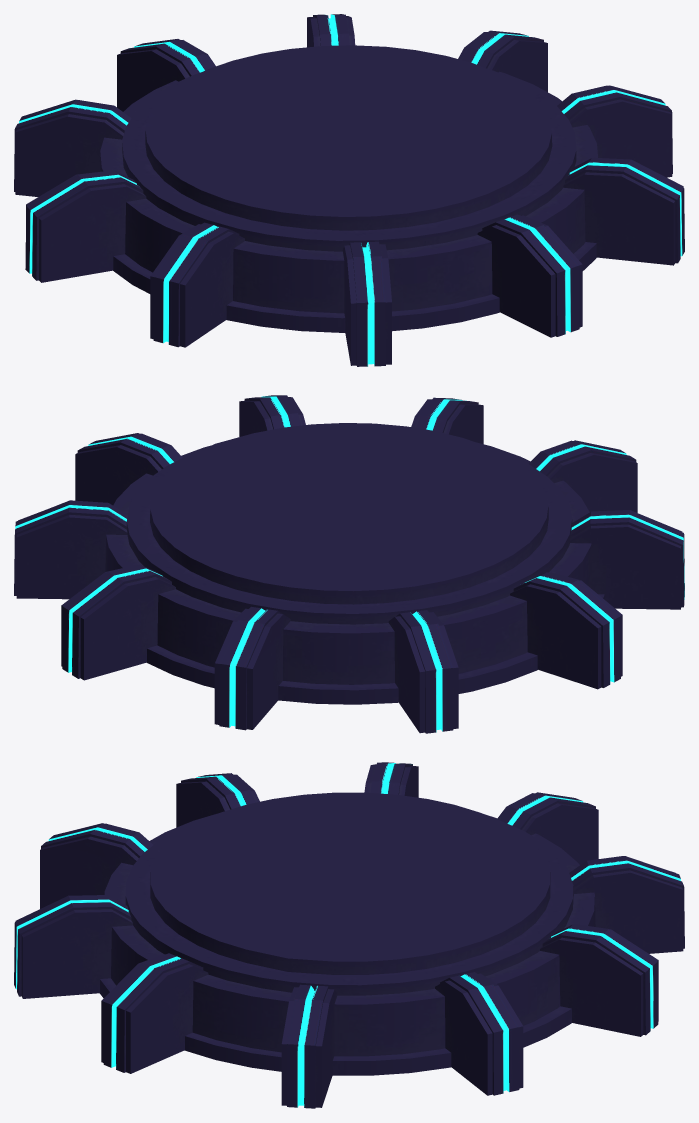
3 views of the same model, one above another, from view 1: azimuth 30°, elevation 25°; view 2: azimuth 150°, elevation 25°; view 3: azimuth 270°, elevation 25° (orthographic). The views are drawn at different scales.
Visible parts, largest first — view 1: top_low3, middle_low2, leg_2_low2, leg_8_low2, leg_1_low2, leg_9_low2, leg_7_low2, leg_3_low2, bottom_low2, leg_10_low2, leg_6_low2, leg_4_low2 (+1 smaller); view 2: top_low3, middle_low2, leg_5_low2, leg_8_low2, leg_9_low2, leg_4_low2, leg_6_low2, leg_7_low2, bottom_low2, leg_10_low2, leg_3_low2, leg_1_low2 (+1 smaller); view 3: top_low3, middle_low2, leg_5_low2, leg_1_low2, leg_2_low2, leg_6_low2, leg_4_low2, leg_10_low2, leg_3_low2, bottom_low2, leg_7_low2, leg_9_low2 (+1 smaller).
Boxes of the visible parts, x1,y1,x2,y2 form: top_low3: (145, 45, 552, 230); middle_low2: (100, 69, 597, 313); leg_2_low2: (563, 157, 684, 265); leg_8_low2: (25, 170, 146, 282); leg_1_low2: (477, 214, 582, 337); leg_9_low2: (150, 222, 244, 347); leg_7_low2: (14, 99, 131, 196); leg_3_low2: (557, 85, 672, 177); bottom_low2: (113, 242, 596, 332); leg_10_low2: (342, 241, 391, 366); leg_6_low2: (117, 39, 215, 111); leg_4_low2: (458, 30, 547, 92); top_low3: (150, 423, 548, 604); middle_low2: (105, 442, 592, 684); leg_5_low2: (61, 564, 175, 680); leg_8_low2: (510, 572, 622, 689); leg_9_low2: (570, 510, 684, 609); leg_4_low2: (14, 500, 127, 599); leg_6_low2: (214, 606, 290, 730); leg_7_low2: (388, 610, 458, 733); bottom_low2: (147, 594, 604, 704); leg_10_low2: (529, 440, 637, 512); leg_3_low2: (75, 433, 182, 505); leg_1_low2: (411, 397, 483, 443); top_low3: (150, 792, 550, 974); middle_low2: (104, 814, 595, 1056); leg_5_low2: (540, 924, 658, 1036); leg_1_low2: (14, 895, 132, 998); leg_2_low2: (101, 953, 208, 1073); leg_6_low2: (569, 856, 684, 953); leg_4_low2: (435, 972, 523, 1095); leg_10_low2: (40, 823, 153, 908); leg_3_low2: (281, 984, 337, 1108); bottom_low2: (100, 978, 571, 1075); leg_7_low2: (497, 792, 598, 864); leg_9_low2: (176, 773, 259, 827).
Bounding box in the file's own units: 9 × 1.32 × 8.98.
Materials: 1 (1 with a texture image).
